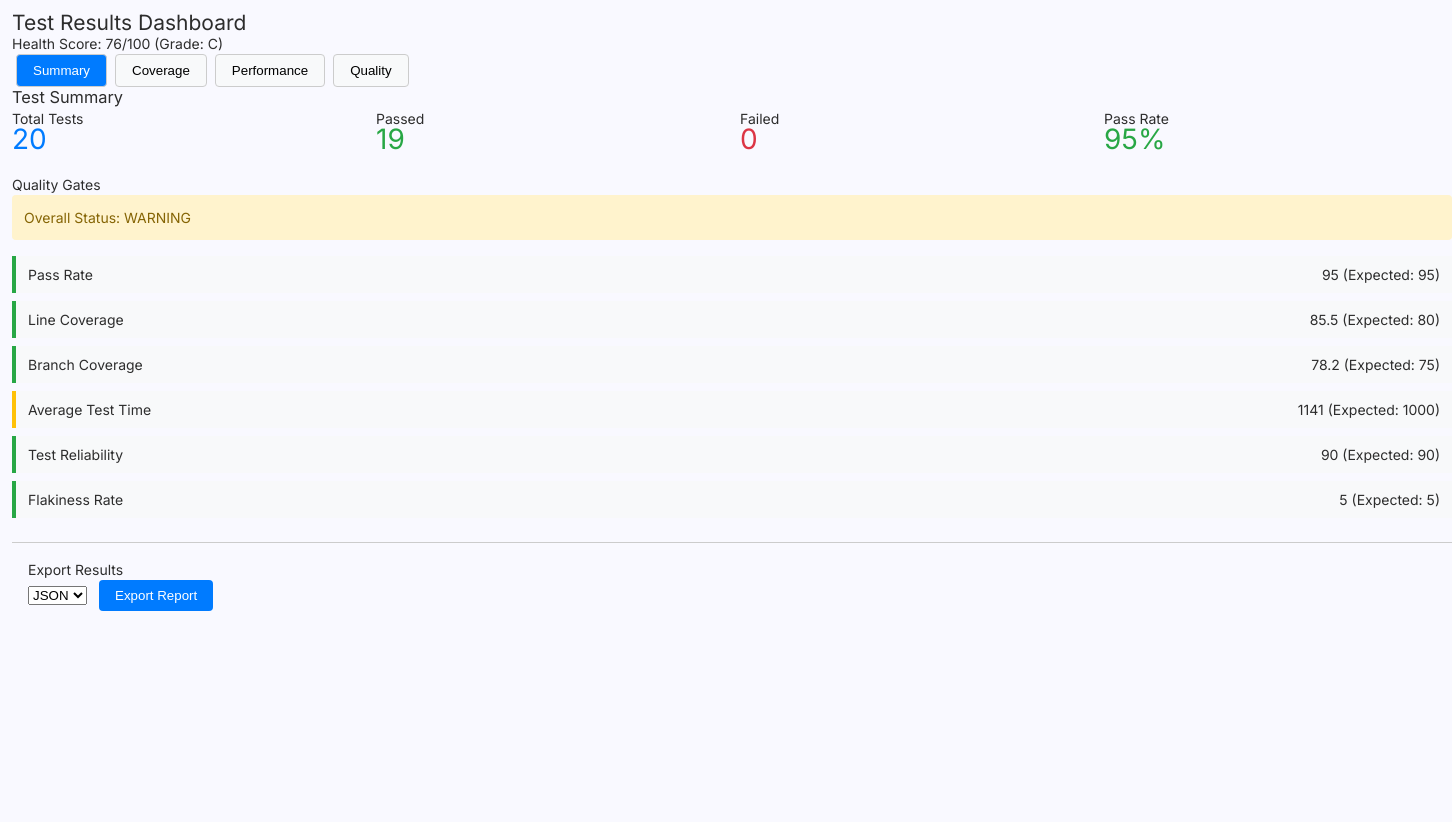
Comprehensive Test Reporting and Metrics Tests › Test Results Dashboard Component › should show performance metrics
Click the button with test id "tab-performance" at (270, 70), box [215,54,325,87]
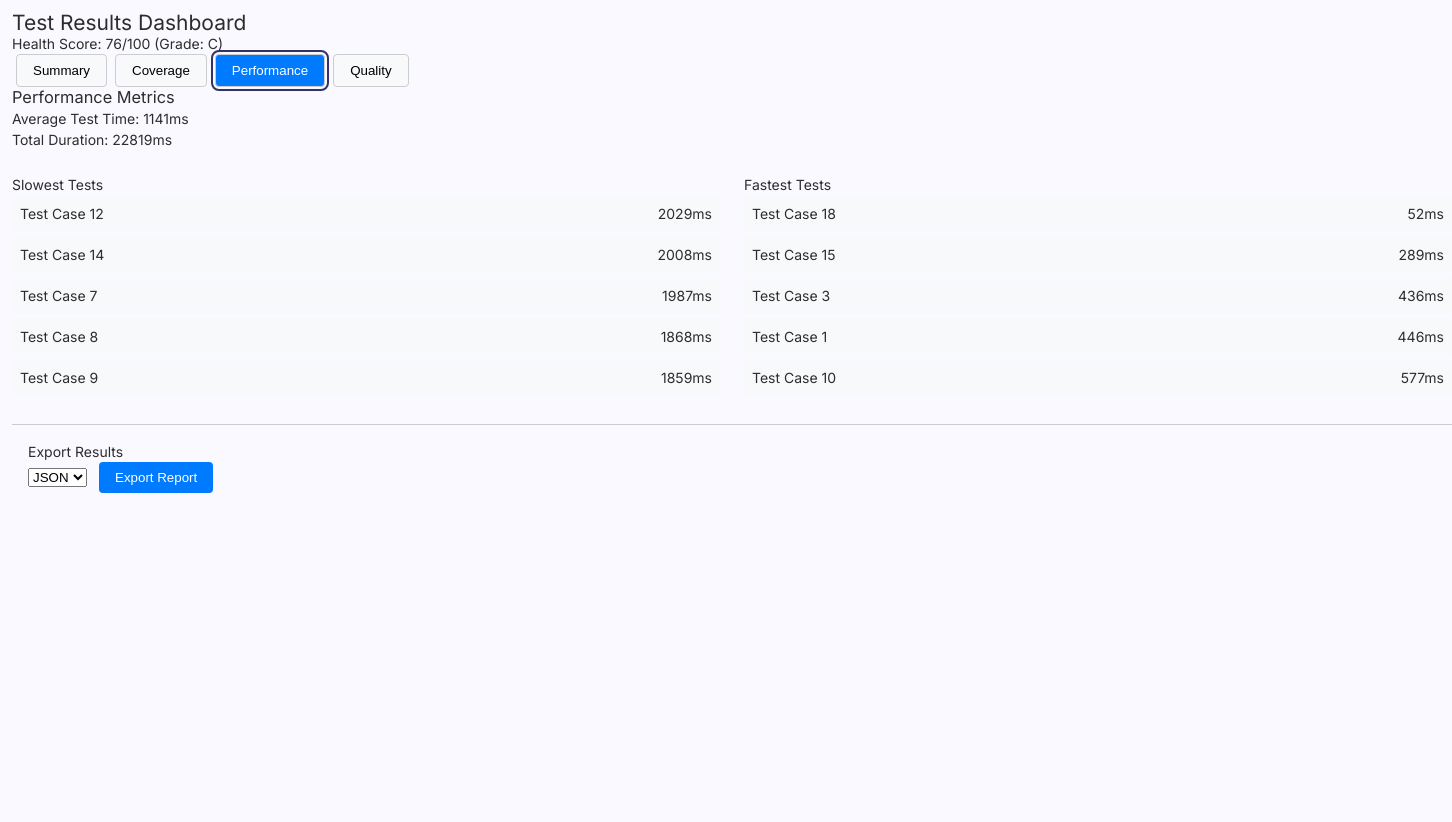
Expected: the element with test id "performance-view" is shown, [12,87,1451,400]
Expected: the element with test id "slowest-tests" is shown, [12,174,720,400]
Expected: the element with test id "fastest-tests" is shown, [744,174,1451,400]
